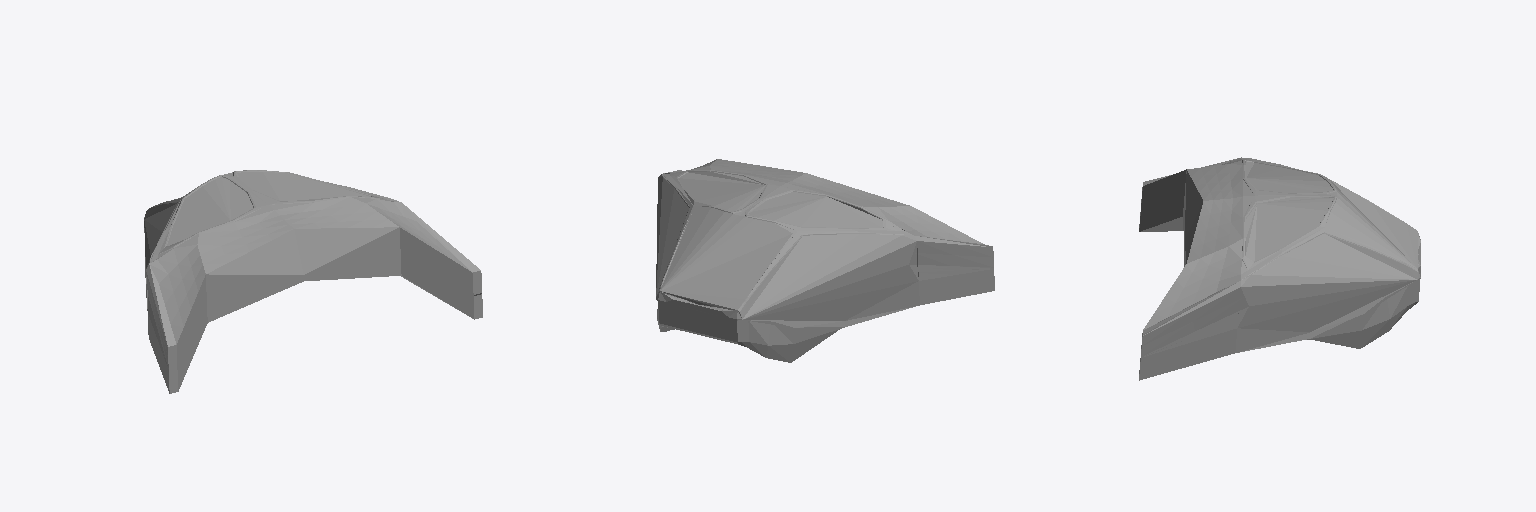
The model's file is user_ship.obj.
The picture shows the model from 3 angles: view 1: azimuth 30°, elevation 25°; view 2: azimuth 150°, elevation 25°; view 3: azimuth 270°, elevation 25°; orthographic projection.
Visible parts, largest first — view 1: Plane; view 2: Plane; view 3: Plane.
Boxes of the visible parts, x1,y1,x2,y2 form: Plane: [144, 170, 482, 393]; Plane: [656, 159, 994, 362]; Plane: [1139, 157, 1420, 380].
Size of the model in its own units: 6.01 by 2.28 by 4.68.